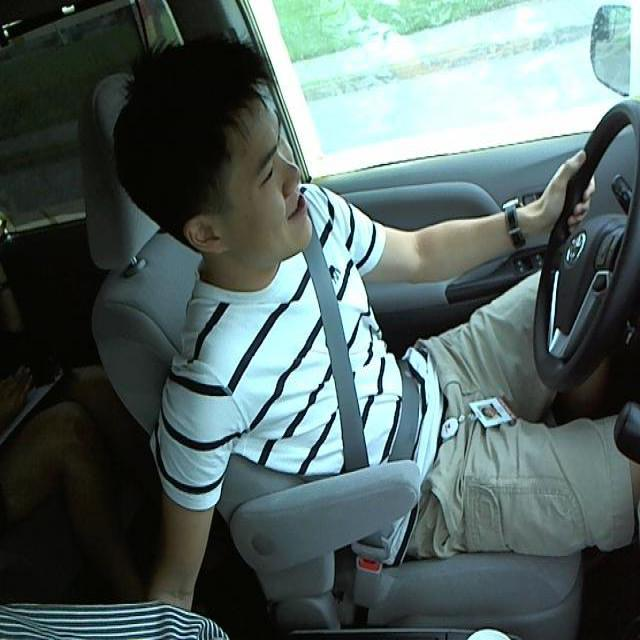seatbelt: (289, 255, 428, 473)
